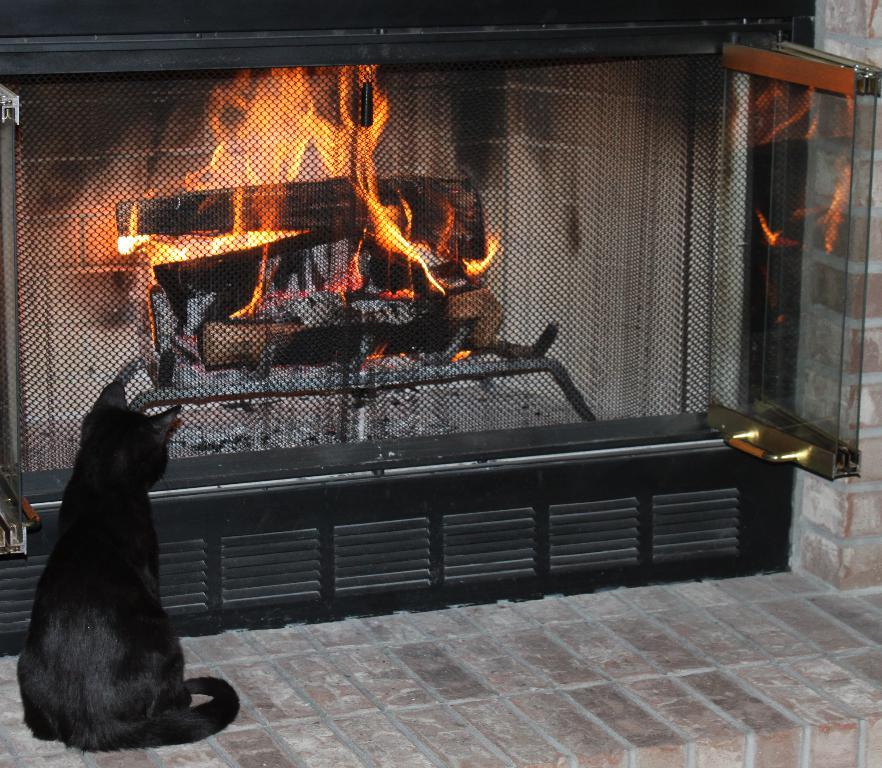Fire: (1, 1, 882, 644)
